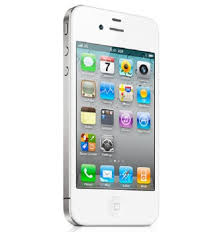iphone: (58, 3, 157, 228)
iphone4: (59, 3, 158, 228)
